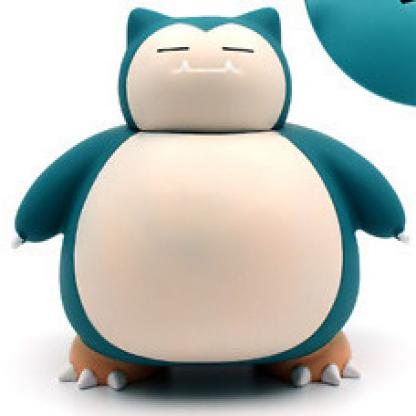Snorlax: (17, 7, 410, 415)
